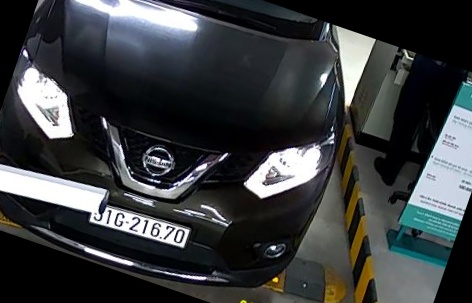plate: (88, 200, 187, 253)
